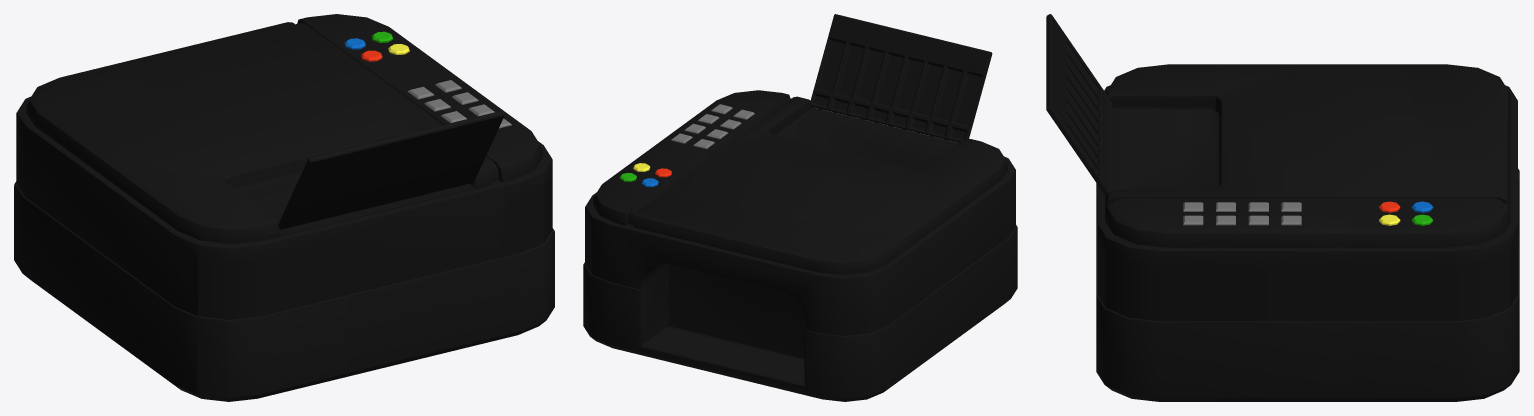
Rendered from printer.glb.
3 views of the same model, side by side, from view 1: azimuth 30°, elevation 25°; view 2: azimuth 150°, elevation 25°; view 3: azimuth 270°, elevation 25° (orthographic). The views are drawn at different scales.
Visible parts, largest first — view 1: Cube.111; view 2: Cube.111; view 3: Cube.111.
Boxes of the visible parts, <box> form: Cube.111: <box>14,14,554,401</box>; Cube.111: <box>583,14,1017,401</box>; Cube.111: <box>1046,14,1519,401</box>.
Bounding box in the file's own units: 0.7736 × 0.5066 × 0.8646.
1 material, 1 textured.
